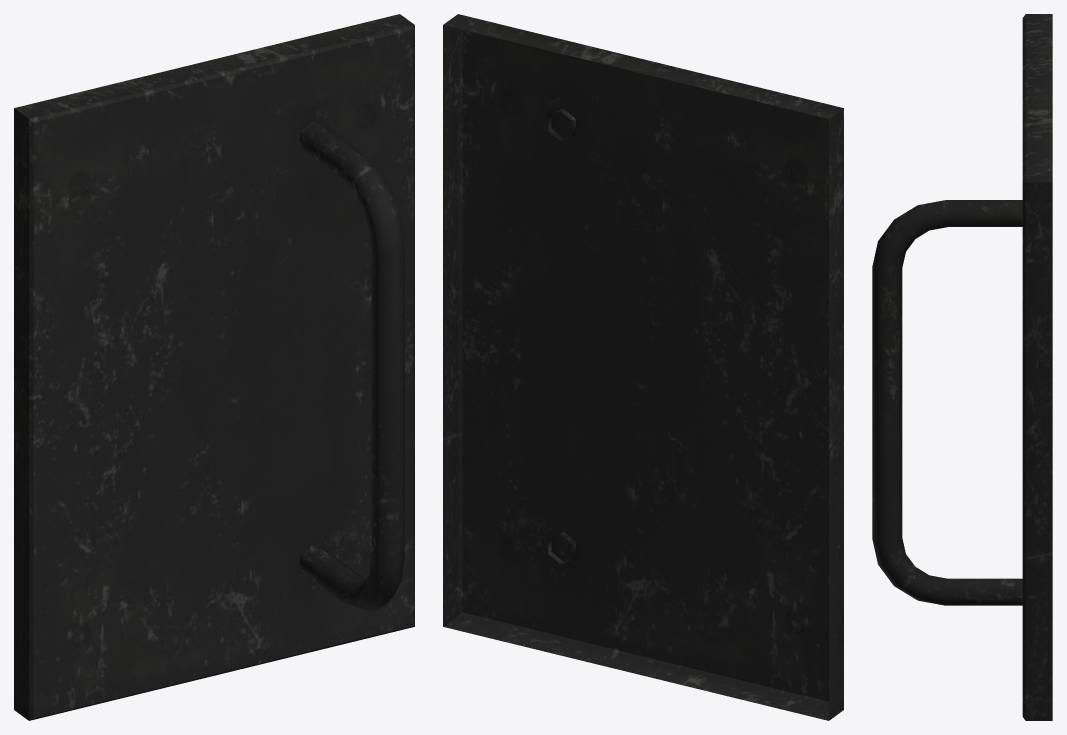
Rendered from Pull Handle.FBX.
The picture shows the model from 3 angles, left to right: view 1: azimuth 30°, elevation 25°; view 2: azimuth 150°, elevation 25°; view 3: azimuth 270°, elevation 25°; orthographic projection. The views are drawn at different scales.
Parts seen in each view (by area): view 1: Pull Handle; view 2: Pull Handle; view 3: Pull Handle.
Boxes of the visible parts, bbox=[...] form: Pull Handle: bbox=[14, 14, 414, 720]; Pull Handle: bbox=[443, 14, 843, 720]; Pull Handle: bbox=[872, 14, 1052, 720].
Size of the model in its own units: 1.34 by 0.606 by 2.
